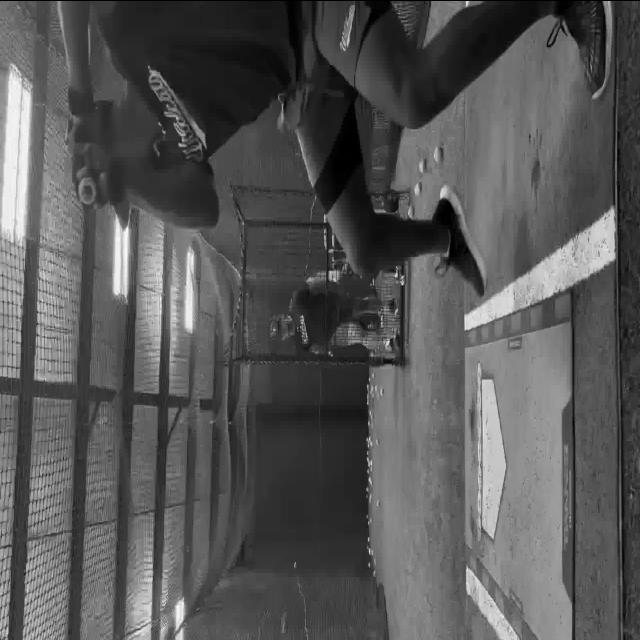baseball: (433, 145, 443, 163), (414, 182, 422, 196), (407, 205, 414, 219), (418, 159, 424, 173)
baseball_glove: (66, 89, 118, 212)
shoe: (546, 2, 612, 100), (433, 184, 487, 298), (384, 334, 400, 352), (386, 298, 398, 316)
